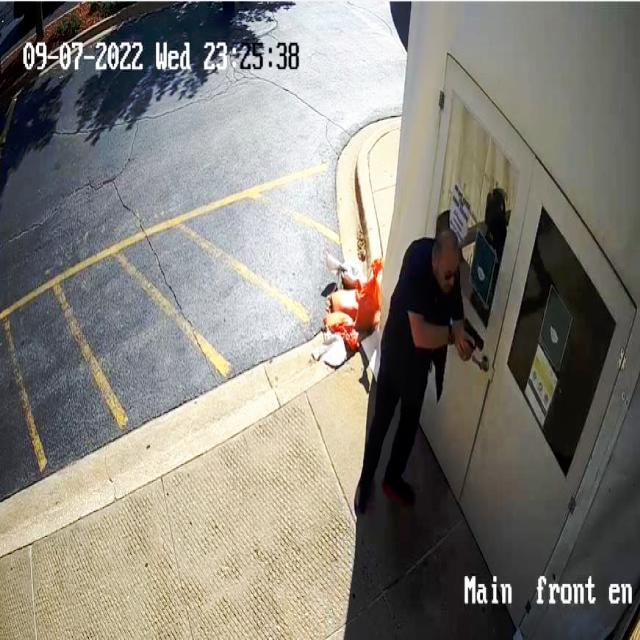Gun: (458, 314, 498, 355)
